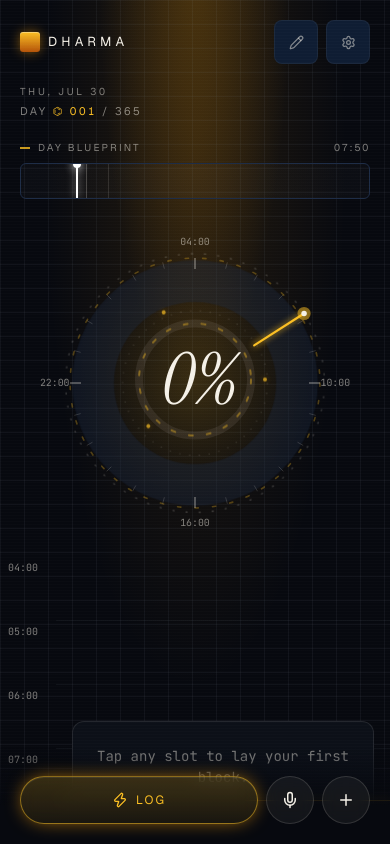
it: C-m2-016: Empty-state card unmounts when blocks.length > 0 (re-authored M2) › EmptyBlocks card disappears after saving a block via AddBlockSheet
The image size is (390, 844).
Expected: the text "Tap any slot to lay your first block." is shown, [97, 746, 349, 788]
// Open chooser → Add Block → type title → save (M4d chooser routing)
Click the button named "Add" at coordinates (346, 800), box [322, 776, 370, 824]
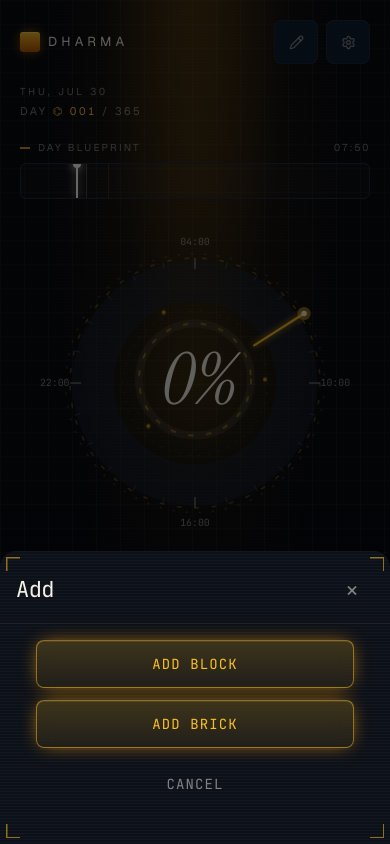
Click the button "Add Block" at coordinates (195, 664), box [36, 640, 354, 688]
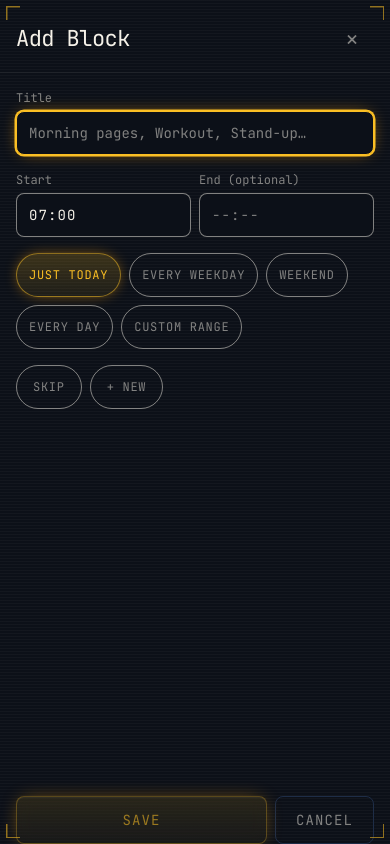
Type "Foo" into the field labelled "Title" at coordinates (195, 133), box [16, 111, 374, 155]
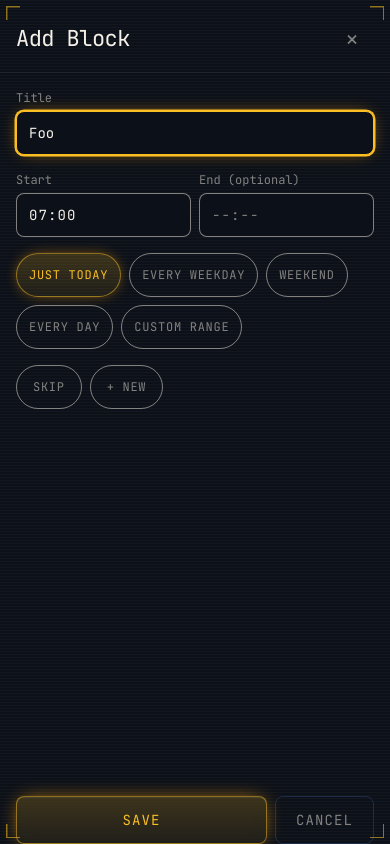
Click the button "Save" at coordinates (141, 820), box [16, 796, 267, 843]
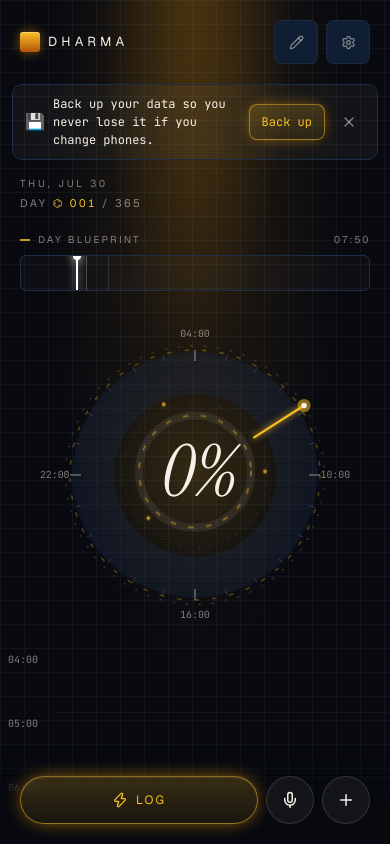
Now the text "Tap any slot to lay your first block." is gone
